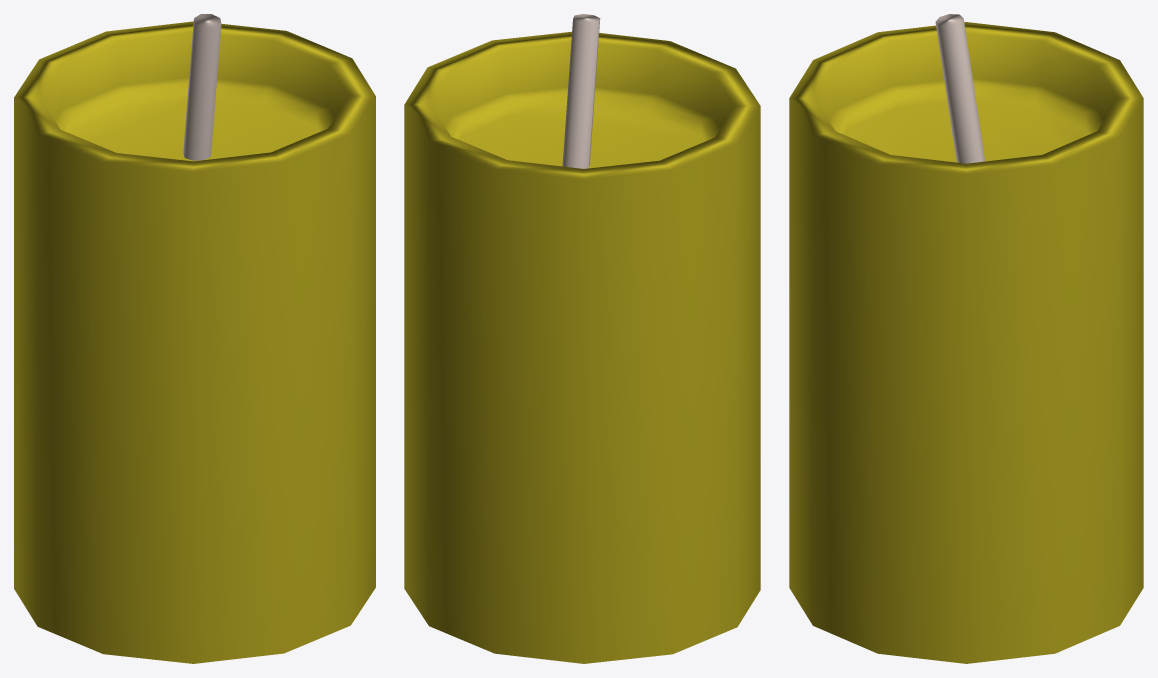
The model's file is interactible_candle_unlit.fbx.
The picture shows the model from 3 angles, left to right: view 1: azimuth 30°, elevation 25°; view 2: azimuth 150°, elevation 25°; view 3: azimuth 270°, elevation 25°; orthographic projection.
Visible parts, largest first — view 1: interactible_candle; view 2: interactible_candle; view 3: interactible_candle.
Boxes of the visible parts, x1,y1,x2,y2 form: interactible_candle: (14,14,375,663); interactible_candle: (404,14,760,663); interactible_candle: (789,14,1143,663).
Bounding box in the file's own units: 0.3347 × 0.5833 × 0.3281.
